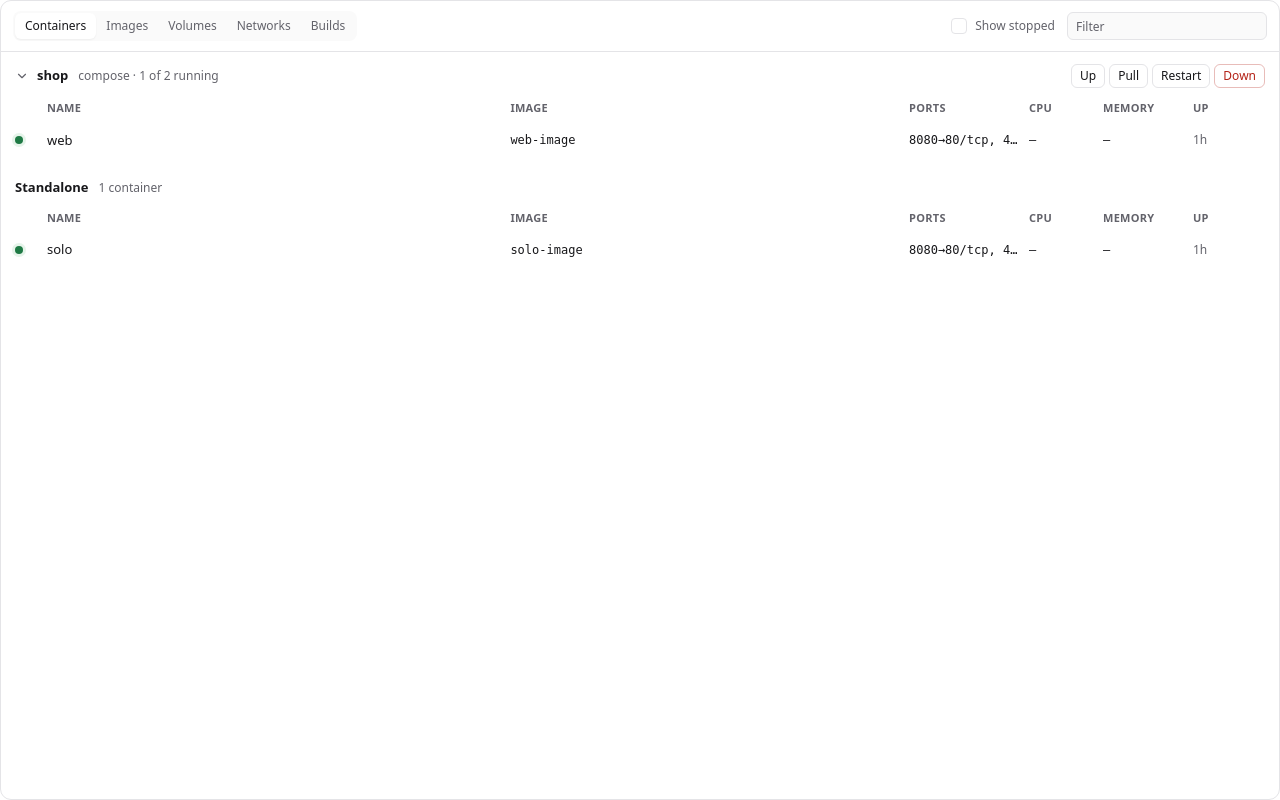
ContainersView › shows stopped containers with the checkbox
This screenshot has width=1280, height=800.
Expected: the button "web" is shown, [47,130,500,150]
Step 1. Click the checkbox named "Show stopped" → (959, 26), box [951,18,967,34]
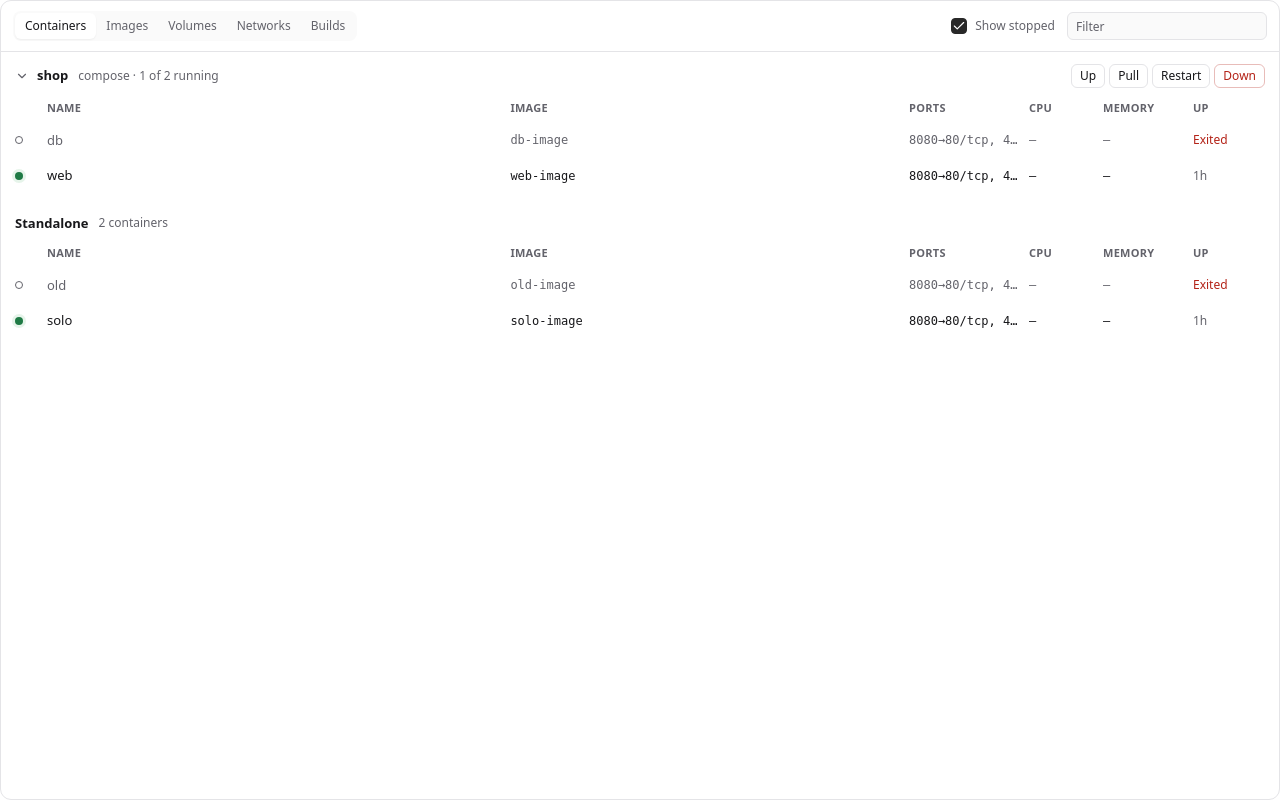
Expected: the button "db" is shown, [47,130,500,150]
Expected: the button "old" is shown, [47,276,500,295]
